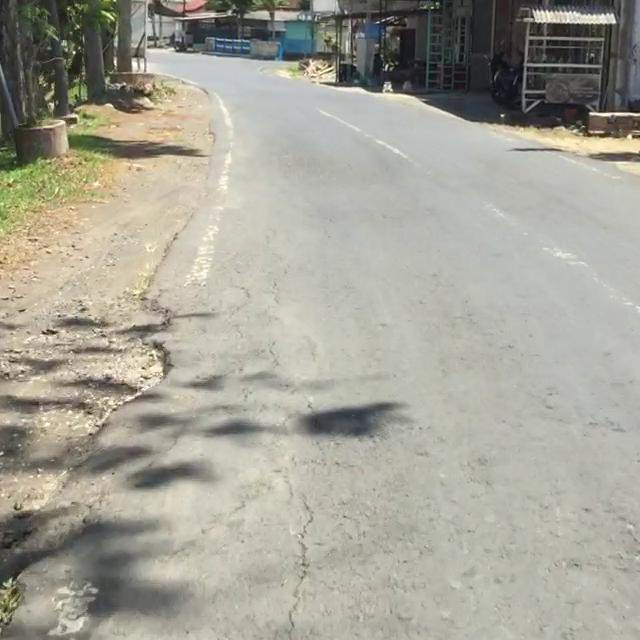retak_memanjang: (248, 454, 345, 640)
